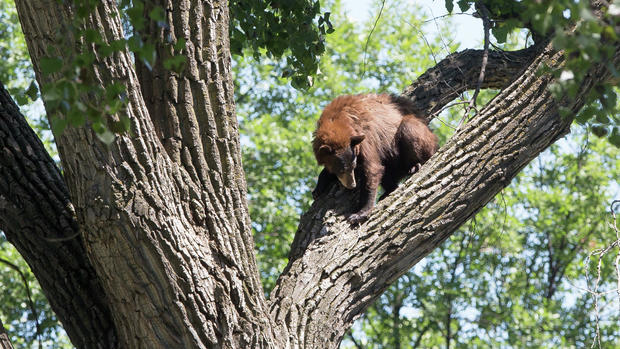bear: (310, 131, 369, 191)
